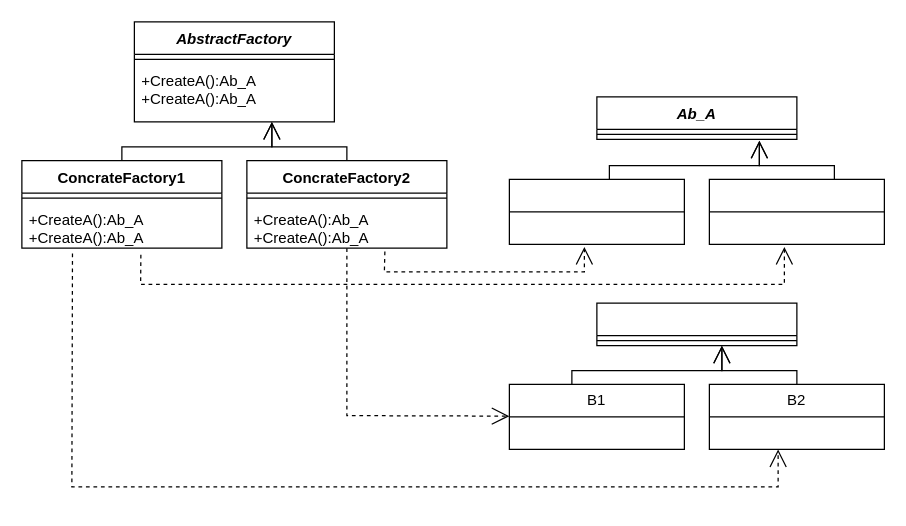
The diagram is 906 pixels wide and 526 high, and some of its shapes have lost their labels. The shapes that lost their labels are listed below. From the top down, each one's centre as x and y in pixels, then its label:
At (596,211): "A1".
At (796,211): "A2".
At (696,324): "Ab_B".
